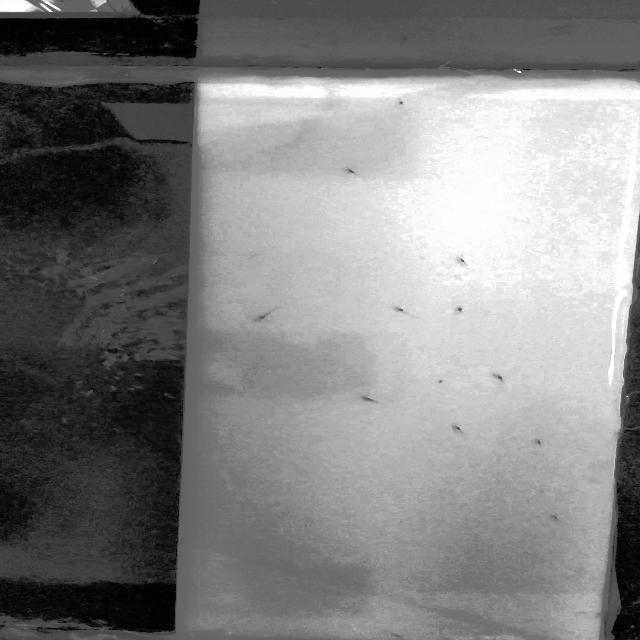shrimp: (482, 369, 523, 390), (334, 161, 371, 181), (351, 394, 393, 410), (444, 252, 476, 272), (538, 510, 575, 527), (384, 304, 419, 318), (449, 300, 476, 318), (253, 308, 282, 324), (424, 373, 454, 388), (529, 436, 556, 452), (388, 93, 412, 110), (448, 423, 472, 435), (389, 631, 404, 638)
